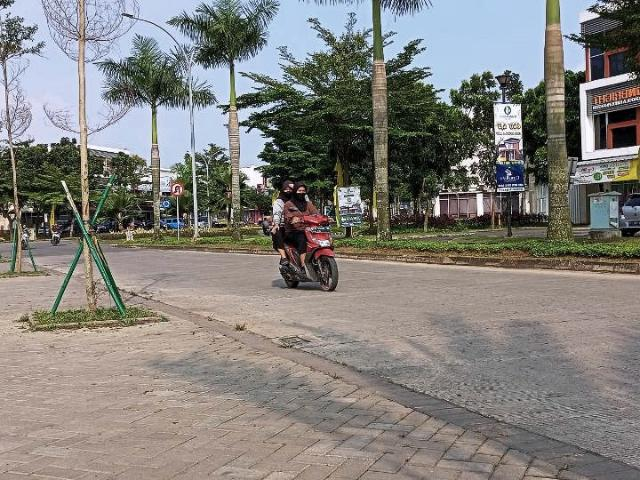motor: (280, 207, 340, 292)
non-helm: (293, 184, 308, 202), (283, 182, 295, 199)
